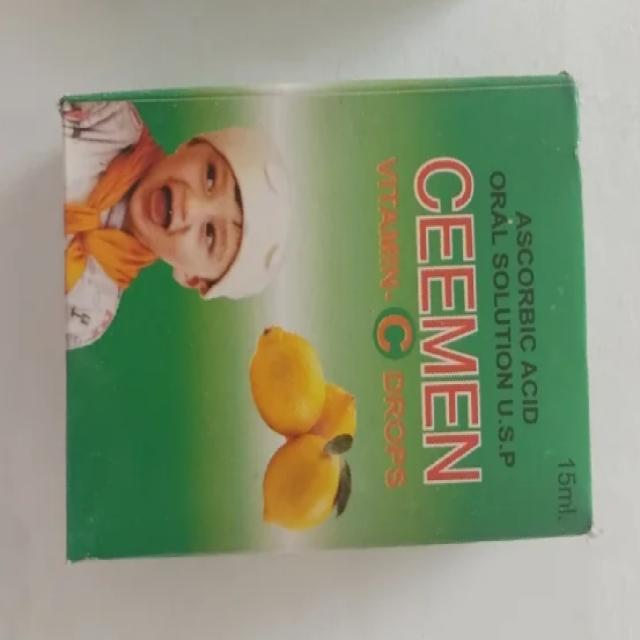drug-name: (412, 151, 488, 490)
